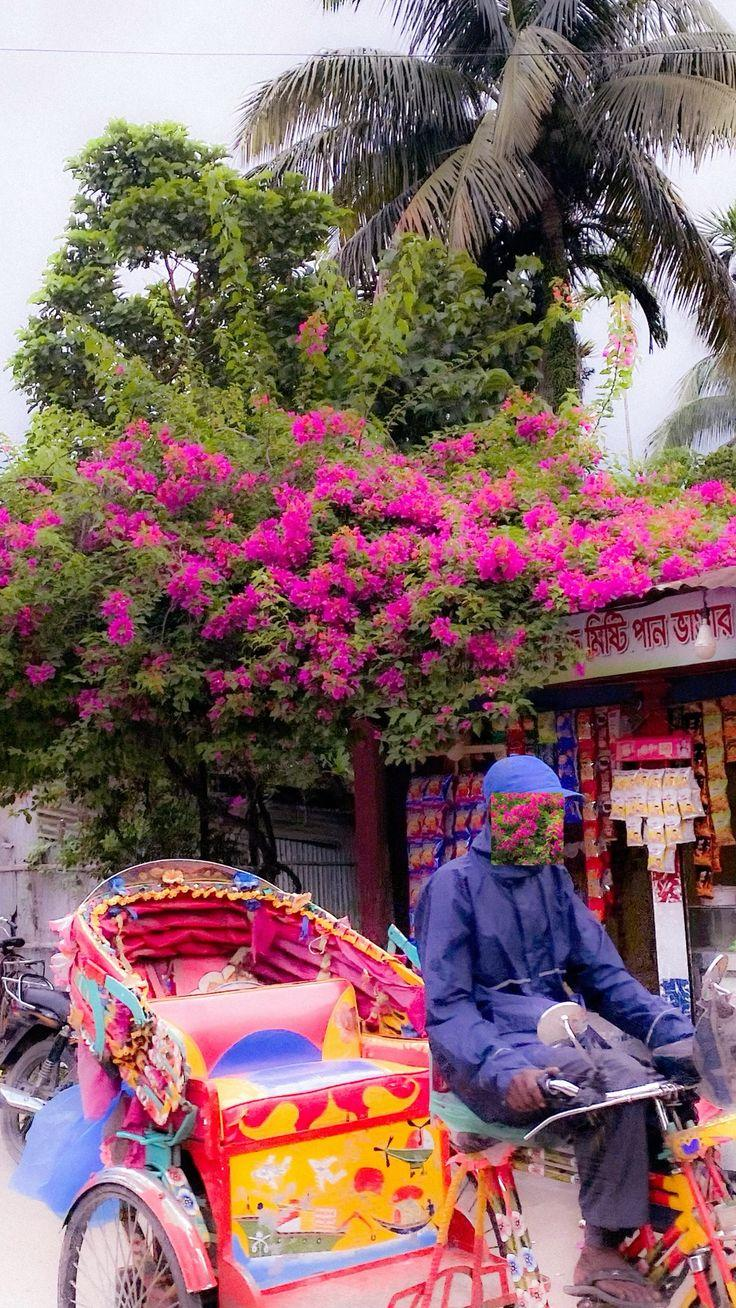Rickshaw: (0, 857, 548, 1307), (634, 1124, 735, 1307)
